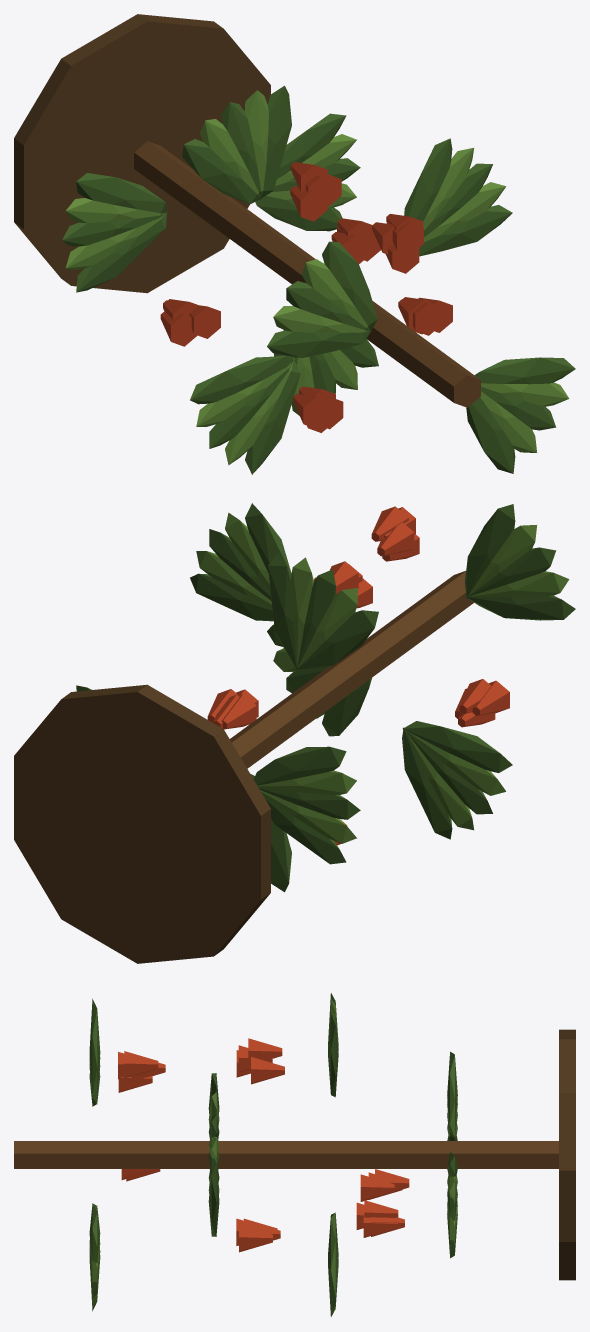
The model's file is 4_mature.obj.
3 renders of one model, top to bottom at view 1: azimuth 30°, elevation 25°; view 2: azimuth 150°, elevation 25°; view 3: azimuth 270°, elevation 25°, orthographic. The views are drawn at different scales.
Parts seen in each view (by area): view 1: hammerstone_4_mature; view 2: hammerstone_4_mature; view 3: hammerstone_4_mature.
Boxes of the visible parts, bbox=[...] form: hammerstone_4_mature: bbox=[14, 14, 575, 474]; hammerstone_4_mature: bbox=[14, 503, 575, 963]; hammerstone_4_mature: bbox=[14, 993, 575, 1316].
Size of the model in its own units: 0.3733 by 0.378 by 0.66.
